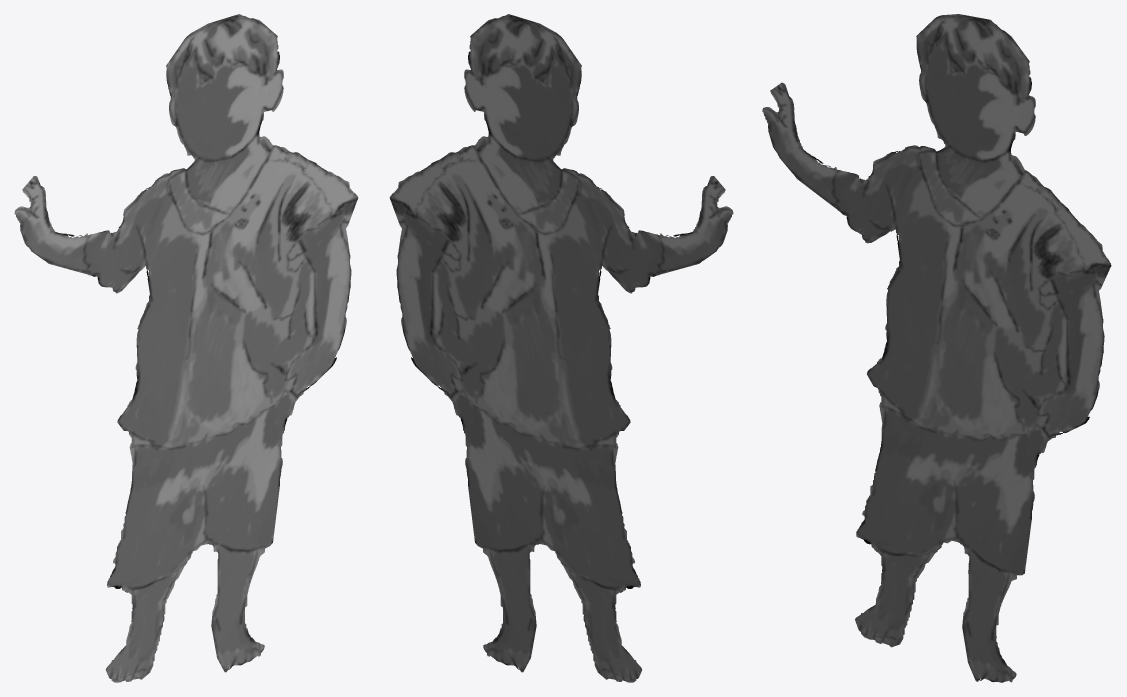
File: Depression_Kid3.fbx
3 renders of one model, left to right at view 1: azimuth 30°, elevation 25°; view 2: azimuth 150°, elevation 25°; view 3: azimuth 330°, elevation 25°, orthographic.
Visible parts, largest first — view 1: pCube1; view 2: pCube1; view 3: pCube1.
Boxes of the visible parts, x1,y1,x2,y2 form: pCube1: (14, 14, 358, 682); pCube1: (389, 14, 733, 682); pCube1: (762, 14, 1111, 682).
Size of the model in its own units: 0.0123 by 0.0224 by 0.
Materials: 1 (1 with a texture image).
